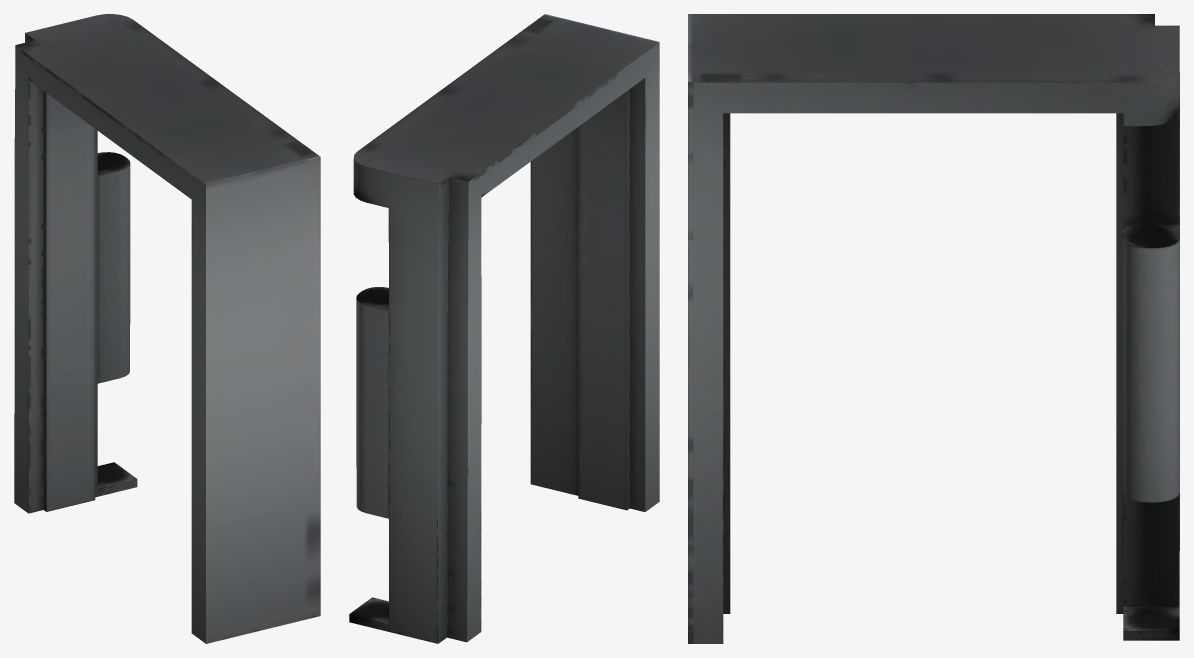
3 renders of one model, left to right at view 1: azimuth 30°, elevation 25°; view 2: azimuth 150°, elevation 25°; view 3: azimuth 270°, elevation 25°, orthographic. The views are drawn at different scales.
Parts seen in each view (by area): view 1: body0_model0_lod0_mesh0; view 2: body0_model0_lod0_mesh0; view 3: body0_model0_lod0_mesh0.
Boxes of the visible parts, x1=… form: body0_model0_lod0_mesh0: x1=14, y1=14, x2=320, y2=643; body0_model0_lod0_mesh0: x1=349, y1=14, x2=659, y2=643; body0_model0_lod0_mesh0: x1=688, y1=14, x2=1179, y2=643.
Bounding box in the file's own units: 39.86 × 152 × 121.
1 material, 1 textured.
